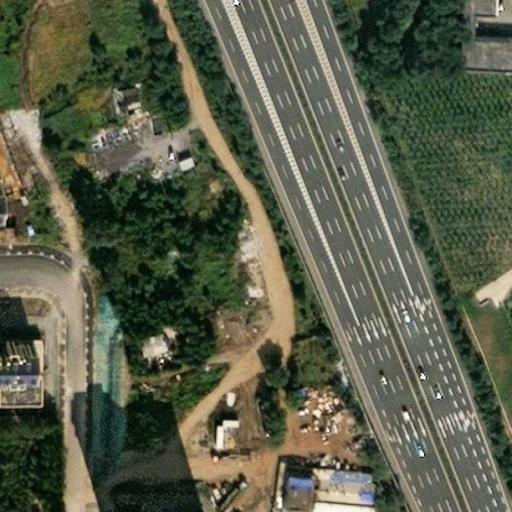building: (295, 488, 374, 512), (265, 468, 299, 512), (213, 412, 240, 447), (115, 81, 143, 111), (128, 321, 155, 346), (174, 148, 198, 172), (0, 327, 22, 353)
